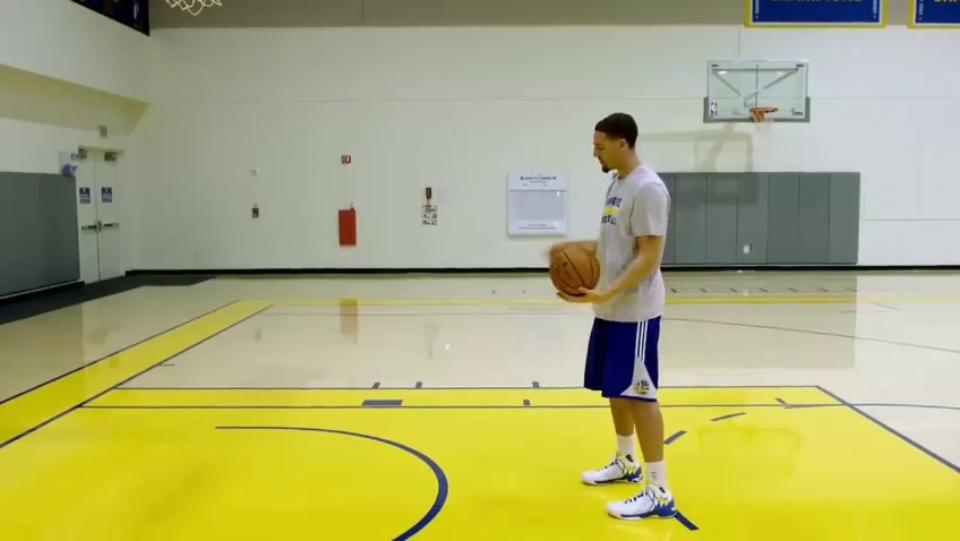hoop: (746, 102, 782, 118)
